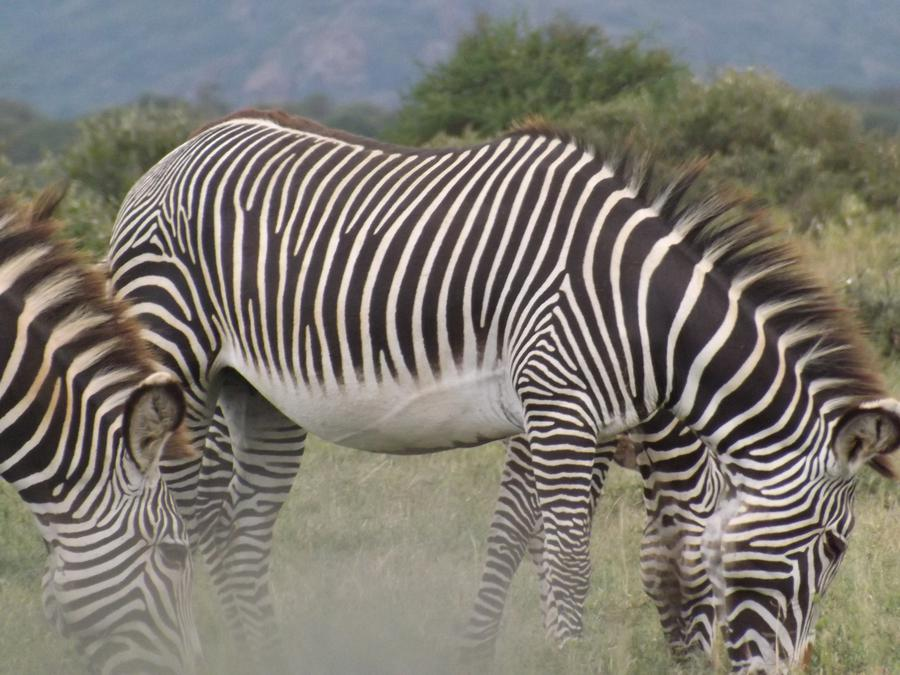zebra_grevys: (114, 102, 608, 448)
